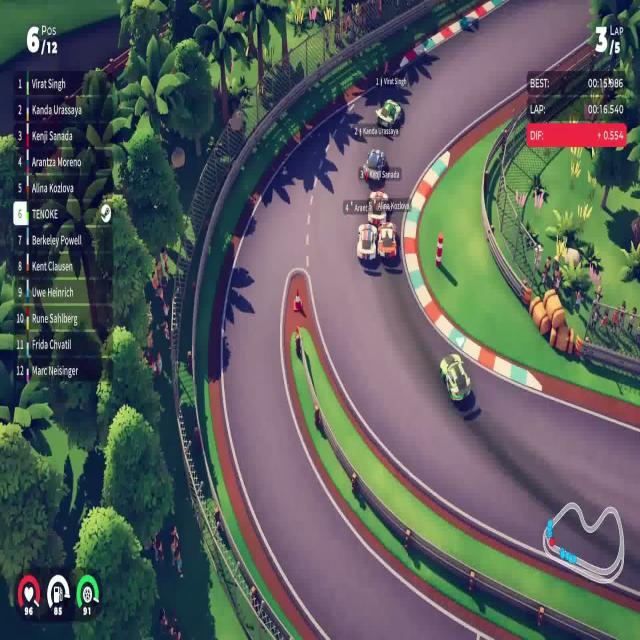car: (438, 352, 472, 407), (356, 222, 378, 267), (362, 147, 389, 182), (377, 221, 398, 263), (375, 98, 402, 128), (368, 194, 387, 227)
